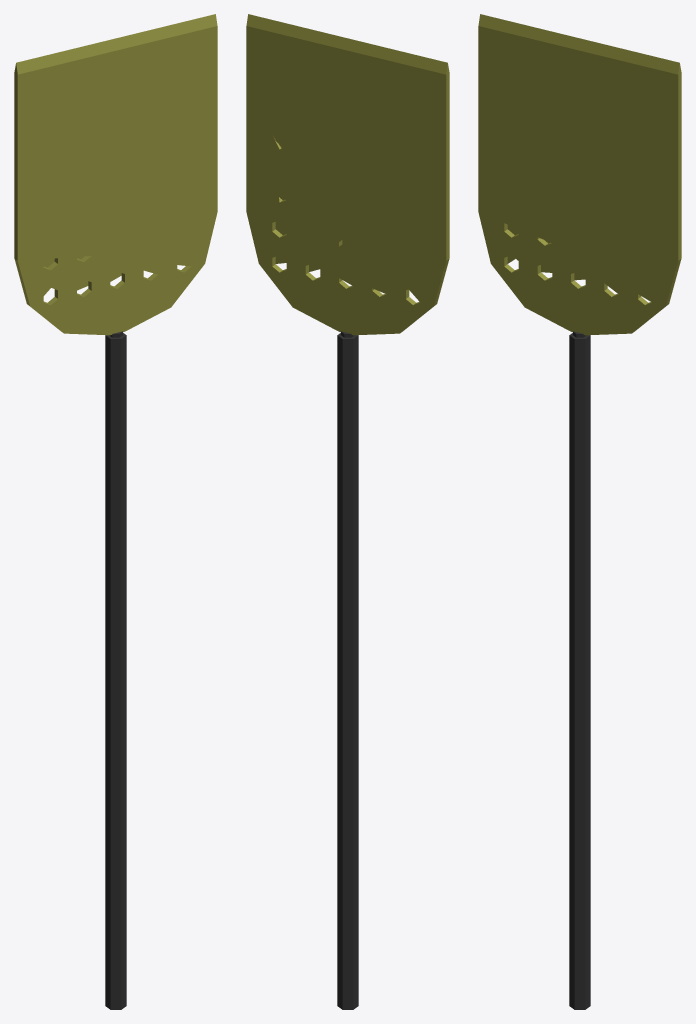
The model's file is SneklikX.fbx.
3 views of the same model, side by side, from view 1: azimuth 30°, elevation 25°; view 2: azimuth 150°, elevation 25°; view 3: azimuth 330°, elevation 25° (orthographic).
Visible parts, largest first — view 1: Cube.001, Cylinder.002; view 2: Cube.001, Cylinder.002; view 3: Cube.001, Cylinder.002.
Part boxes in pixels (x1=…): Cube.001: x1=14, y1=14, x2=217, y2=335; Cylinder.002: x1=105, y1=331, x2=126, y2=1009; Cube.001: x1=246, y1=14, x2=449, y2=335; Cylinder.002: x1=337, y1=331, x2=358, y2=1009; Cube.001: x1=478, y1=14, x2=681, y2=335; Cylinder.002: x1=569, y1=331, x2=590, y2=1009.
Bounding box in the file's own units: 2183 × 10109 × 200.
